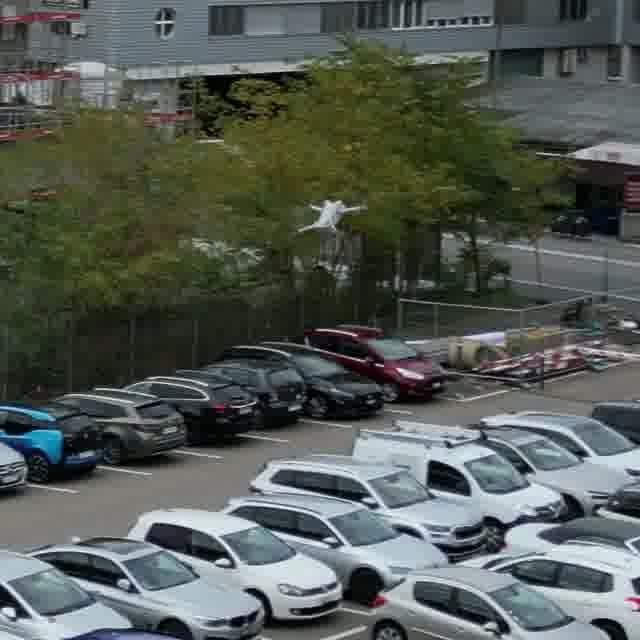Drohne: (298, 200, 365, 232)
